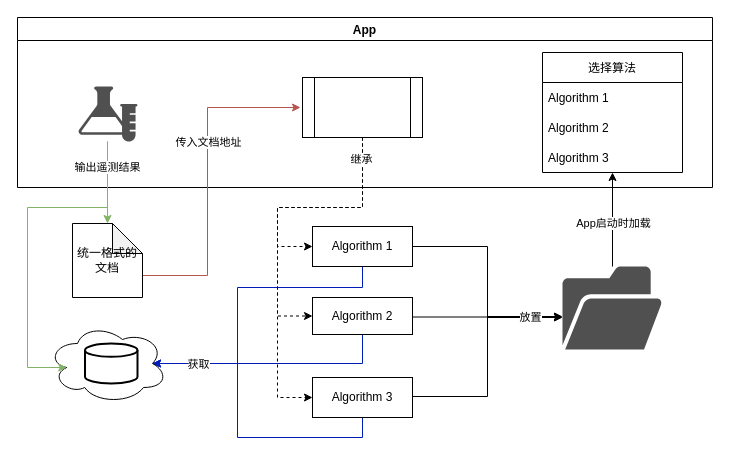
This 730x463 diagram has some shape labels left out. Each missing label, with the centre of its shape:
"放置算法的文件夹" belongs at [612,307].
"数据库" belongs at [111,363].
"算法接口" belongs at [362,107].
